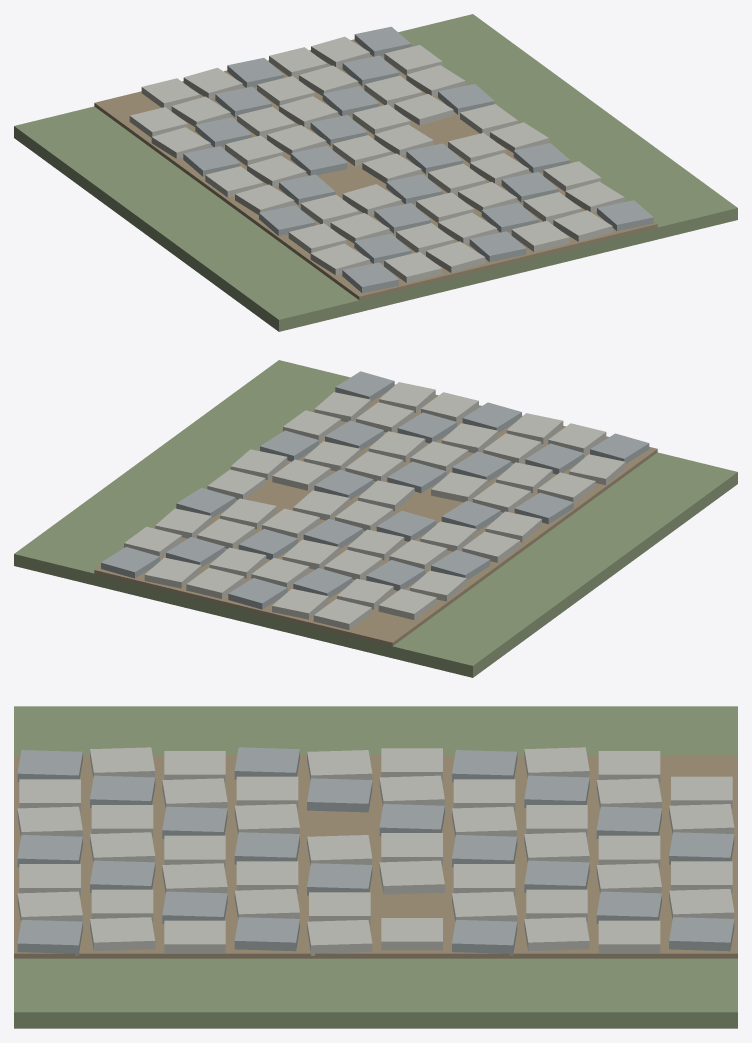
The model's file is road_cobble_cracked.glb.
The picture shows the model from 3 angles, top to bottom: view 1: azimuth 30°, elevation 25°; view 2: azimuth 150°, elevation 25°; view 3: azimuth 270°, elevation 25°; orthographic projection. The views are drawn at different scales.
Visible parts, largest first — view 1: road_cobble_cracked; view 2: road_cobble_cracked; view 3: road_cobble_cracked.
Boxes of the visible parts, x1=… form: road_cobble_cracked: x1=14, y1=14, x2=737, y2=331; road_cobble_cracked: x1=14, y1=360, x2=737, y2=677; road_cobble_cracked: x1=14, y1=706, x2=737, y2=1028.
Bounding box in the file's own units: 4 × 0.1825 × 4.
